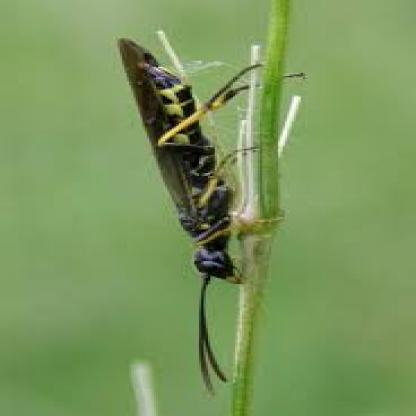sawfly: (120, 37, 299, 383)
